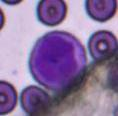M: (28, 30, 86, 92)
